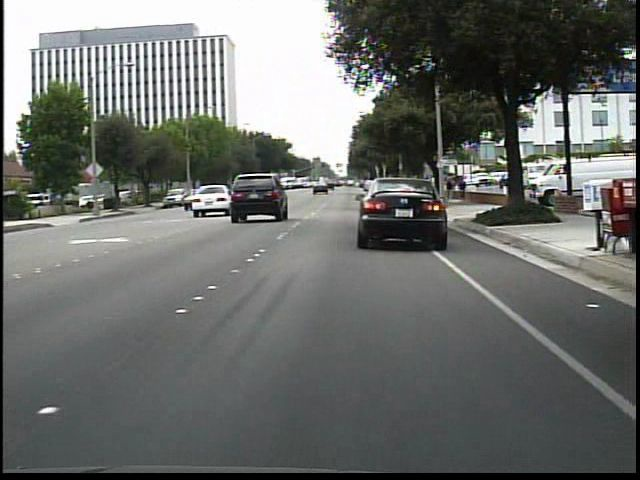person: (457, 176, 468, 206), (442, 177, 455, 202)
